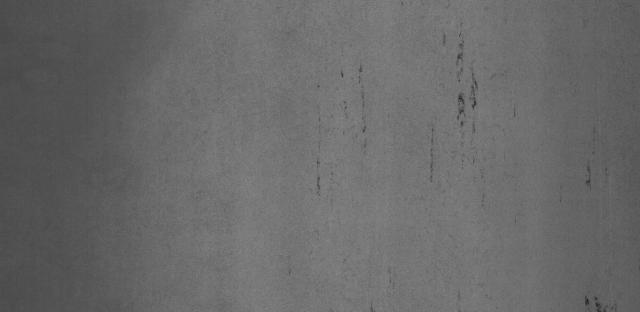inclusion: (310, 56, 376, 195), (576, 129, 611, 198), (576, 289, 610, 309)
oil_spot: (449, 80, 490, 136), (448, 34, 474, 77)
